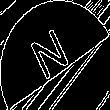N_SE: (31, 23, 79, 87)
